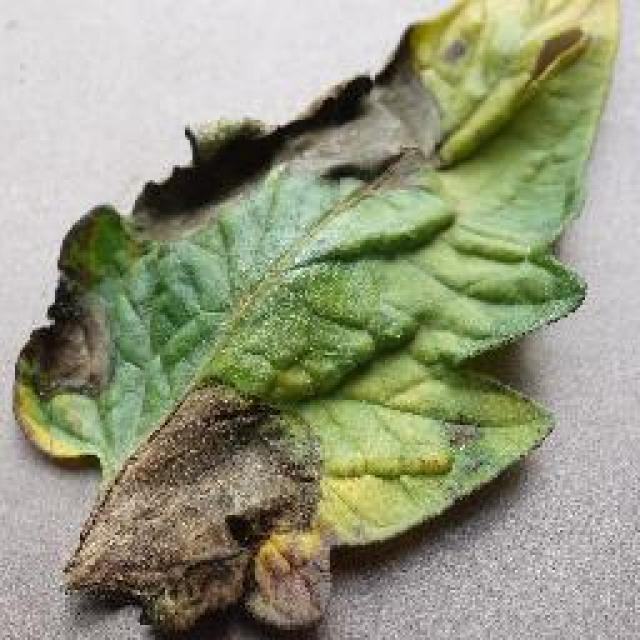Tomato late blight leaf: (16, 0, 619, 628)
